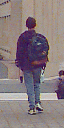person: (8, 17, 54, 112)
